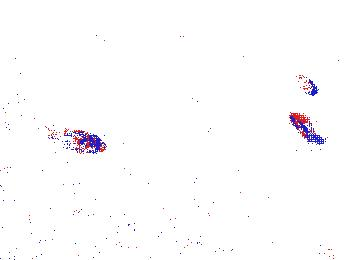X-ray fish: (46, 125, 109, 156), (108, 219, 135, 257), (291, 73, 322, 99)
red belly glassfish: (291, 111, 325, 151)
